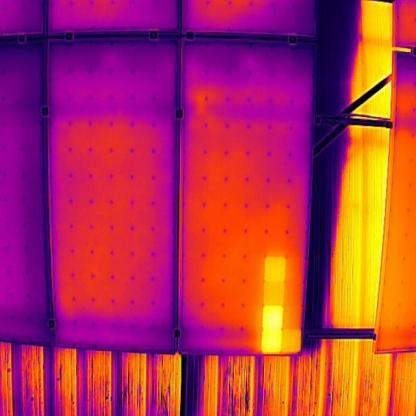anomaly: (258, 253, 306, 357)
